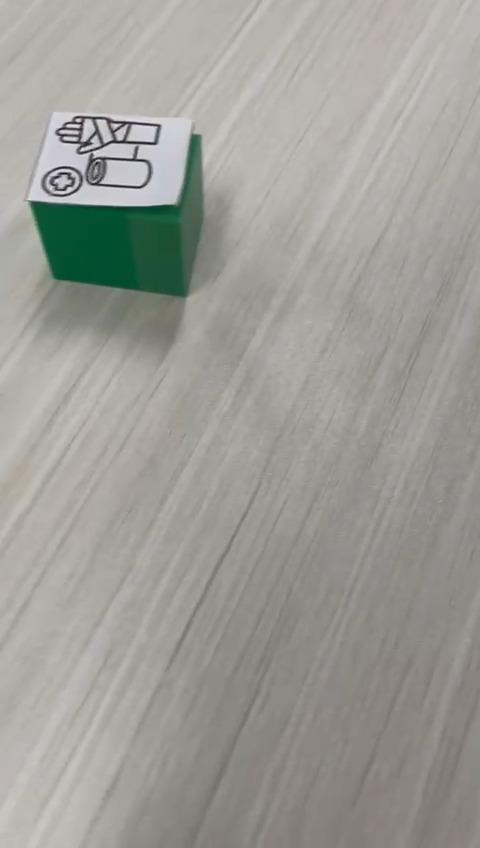Bandages: (24, 111, 205, 297)
